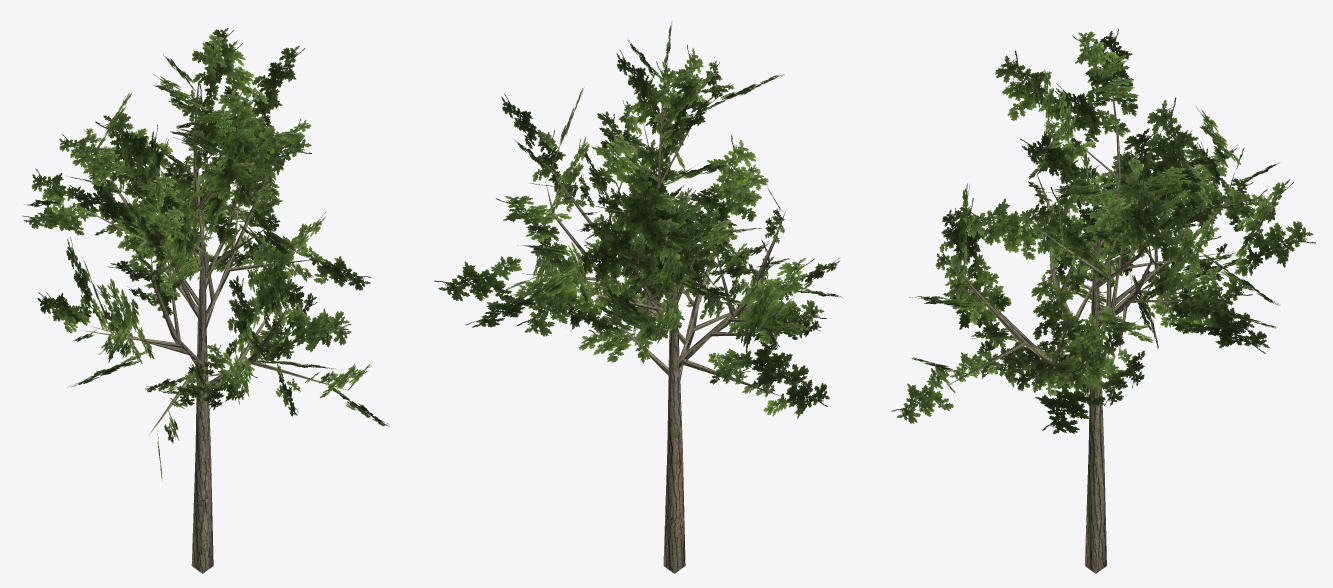
File: ez-oak-01-far.glb
3 renders of one model, left to right at view 1: azimuth 30°, elevation 25°; view 2: azimuth 150°, elevation 25°; view 3: azimuth 270°, elevation 25°, orthographic.
Visible parts, largest first — view 1: leaves, branches; view 2: leaves, branches; view 3: leaves, branches.
Part boxes in pixels (x1,y1,x2,y2): leaves: (22,27,388,480); branches: (70,77,346,573); leaves: (434,21,842,418); branches: (522,84,792,573); leaves: (891,29,1315,433); branches: (946,79,1234,573).
Bounding box in the file's own units: 43.66 × 67.72 × 48.88.
Materials: 2 (2 with a texture image).
